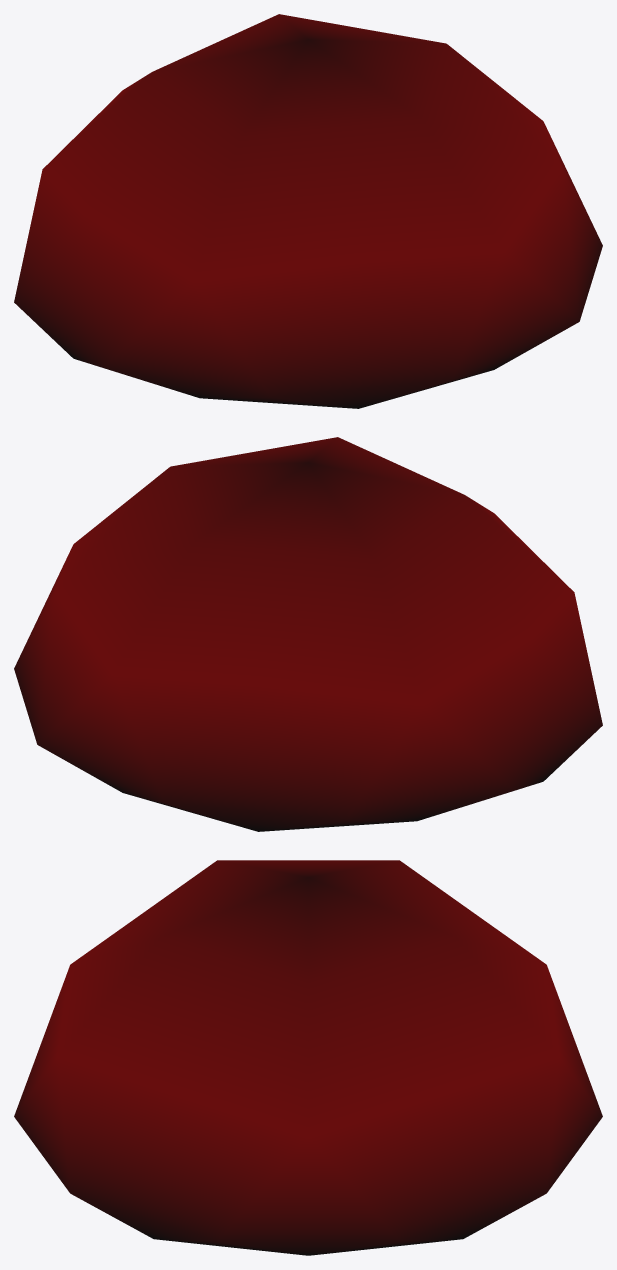
File: Bush_Lowpoly.fbx
3 renders of one model, top to bottom at view 1: azimuth 30°, elevation 25°; view 2: azimuth 150°, elevation 25°; view 3: azimuth 270°, elevation 25°, orthographic. The views are drawn at different scales.
Visible parts, largest first — view 1: Icosphere; view 2: Icosphere; view 3: Icosphere.
Part boxes in pixels (x1,y1,x2,y2): Icosphere: (14,14,602,408); Icosphere: (14,437,602,831); Icosphere: (14,860,602,1255).
Size of the model in its own units: 0.5 by 0.25 by 0.5.
